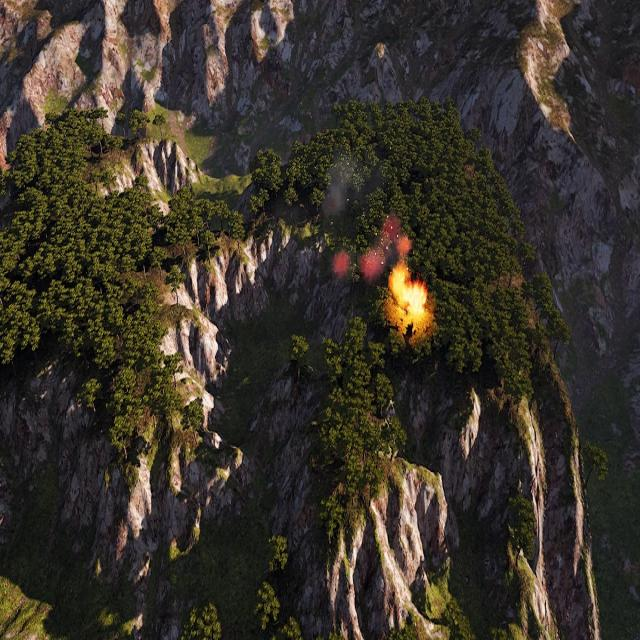fire: (388, 262, 430, 325)
smoke: (331, 210, 411, 281), (322, 169, 350, 223)
